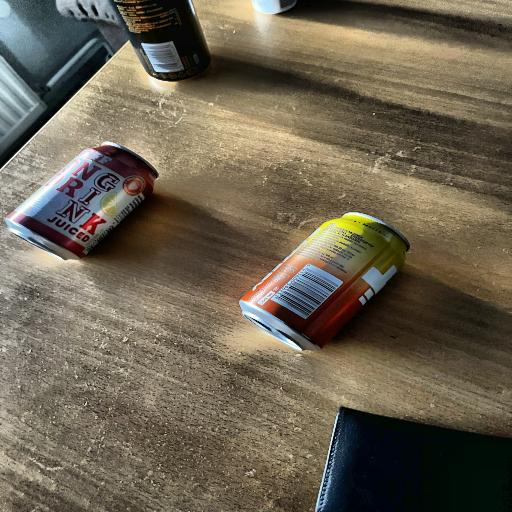koff: (8, 130, 169, 263)
